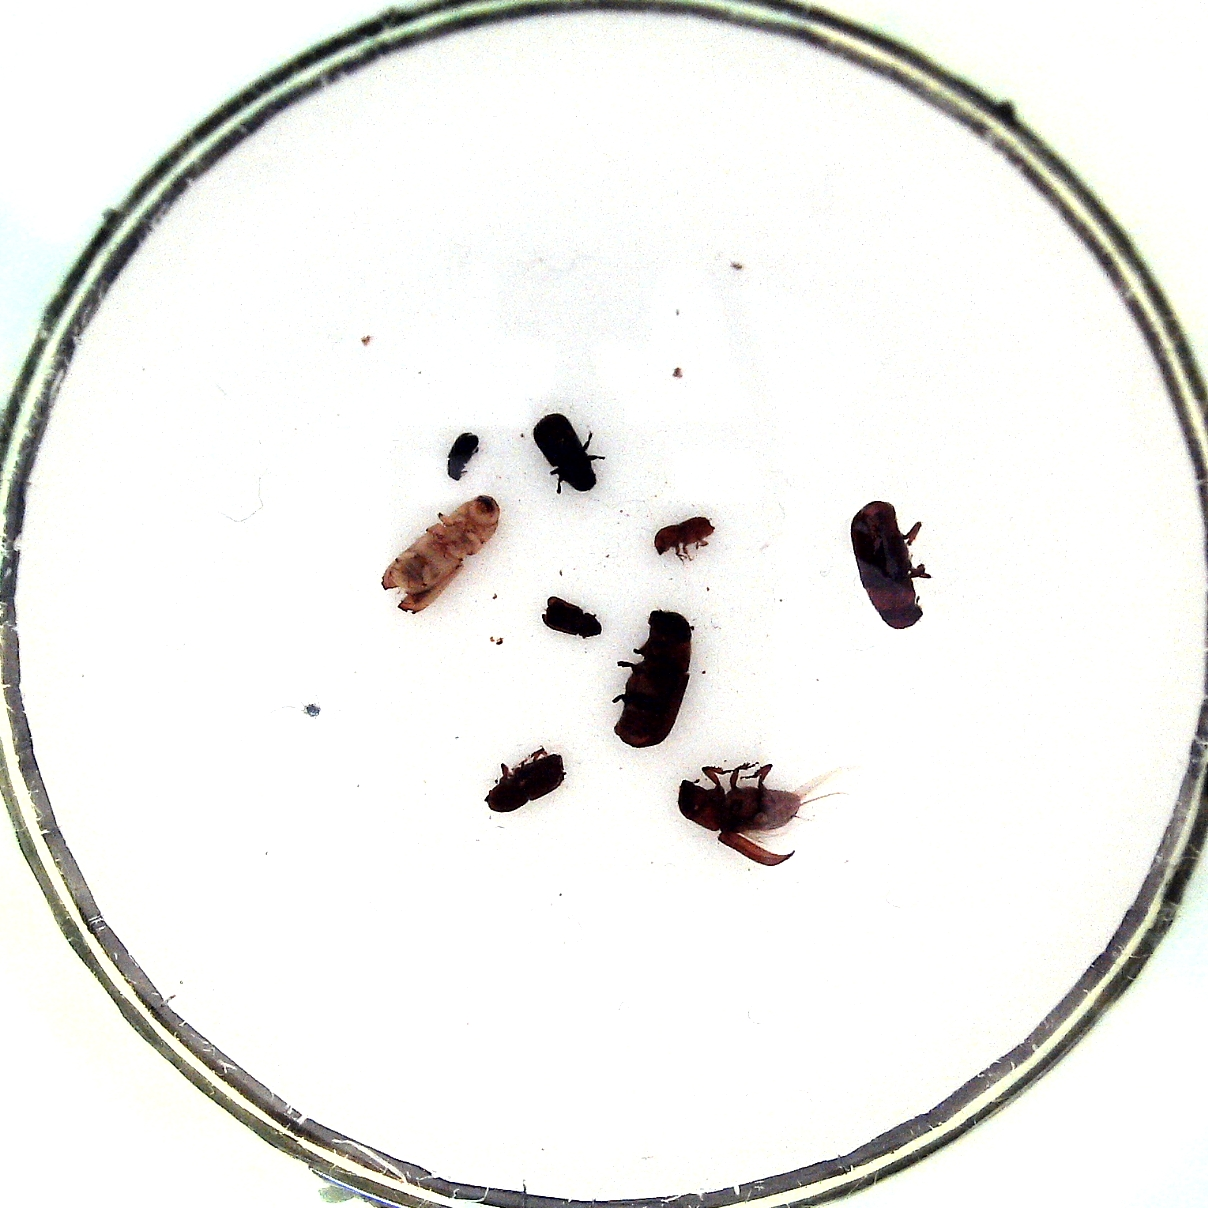Boerner: (381, 494, 500, 612)
Leconte: (613, 610, 691, 748), (850, 500, 923, 631), (678, 779, 800, 833)
acuminatus: (447, 433, 480, 481)
armandi: (532, 413, 597, 492)
coleoptera: (653, 516, 715, 556), (541, 596, 602, 637)
linnaeus: (485, 754, 566, 813)
